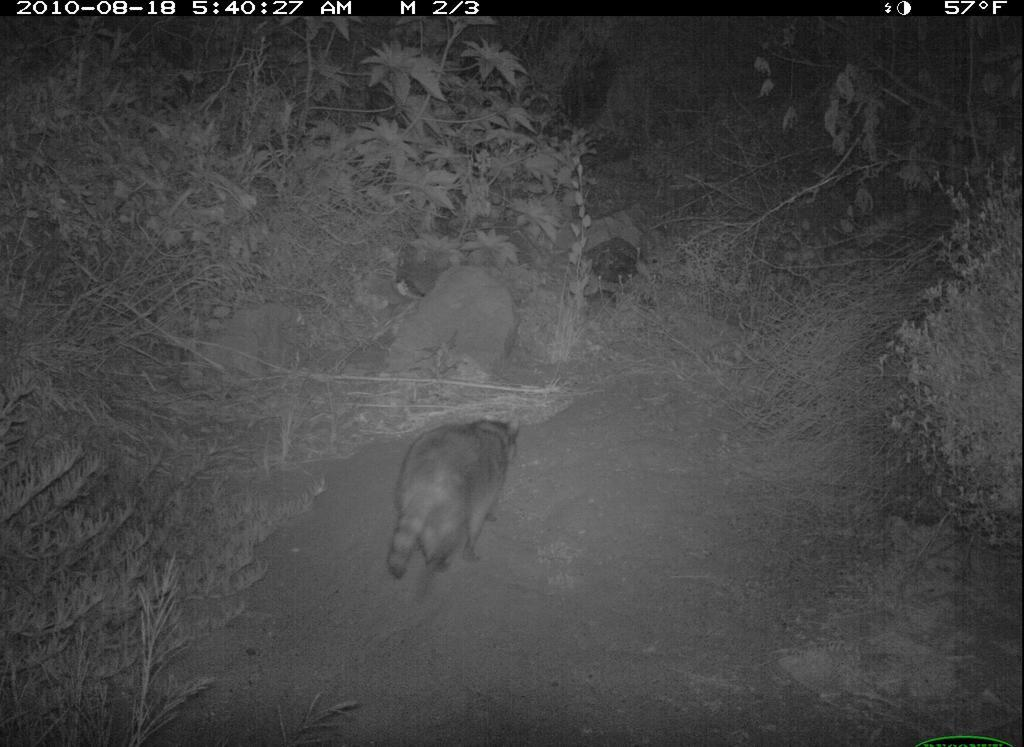raccoon: (347, 388, 569, 594)
